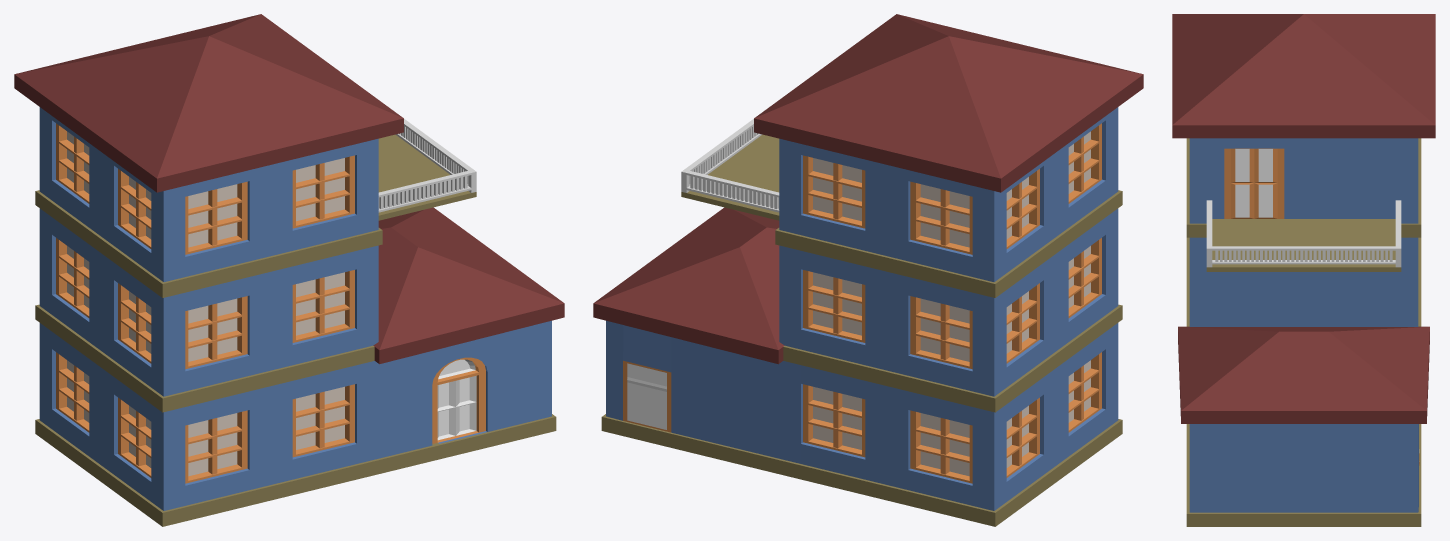
The model's file is building6.fbx.
3 views of the same model, side by side, from view 1: azimuth 30°, elevation 25°; view 2: azimuth 150°, elevation 25°; view 3: azimuth 270°, elevation 25° (orthographic). The views are drawn at different scales.
Visible parts, largest first — view 1: building_008; view 2: building_008; view 3: building_008.
Boxes of the visible parts, x1,y1,x2,y2 form: building_008: (14, 14, 564, 526); building_008: (593, 14, 1143, 526); building_008: (1172, 14, 1435, 526).
Bounding box in the file's own units: 21.51 × 20.8 × 12.88.
